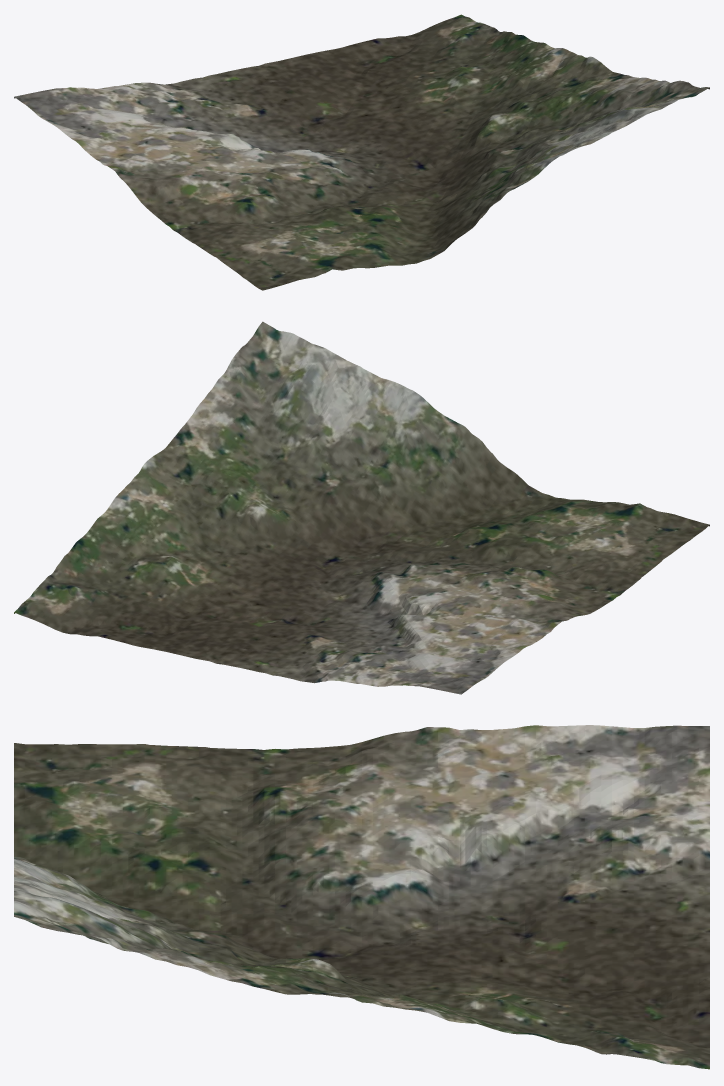
3 views of the same model, one above another, from view 1: azimuth 30°, elevation 25°; view 2: azimuth 150°, elevation 25°; view 3: azimuth 270°, elevation 25° (orthographic). The views are drawn at different scales.
Size of the model in its own units: 250 by 63.66 by 241.
1 material, 1 textured.
